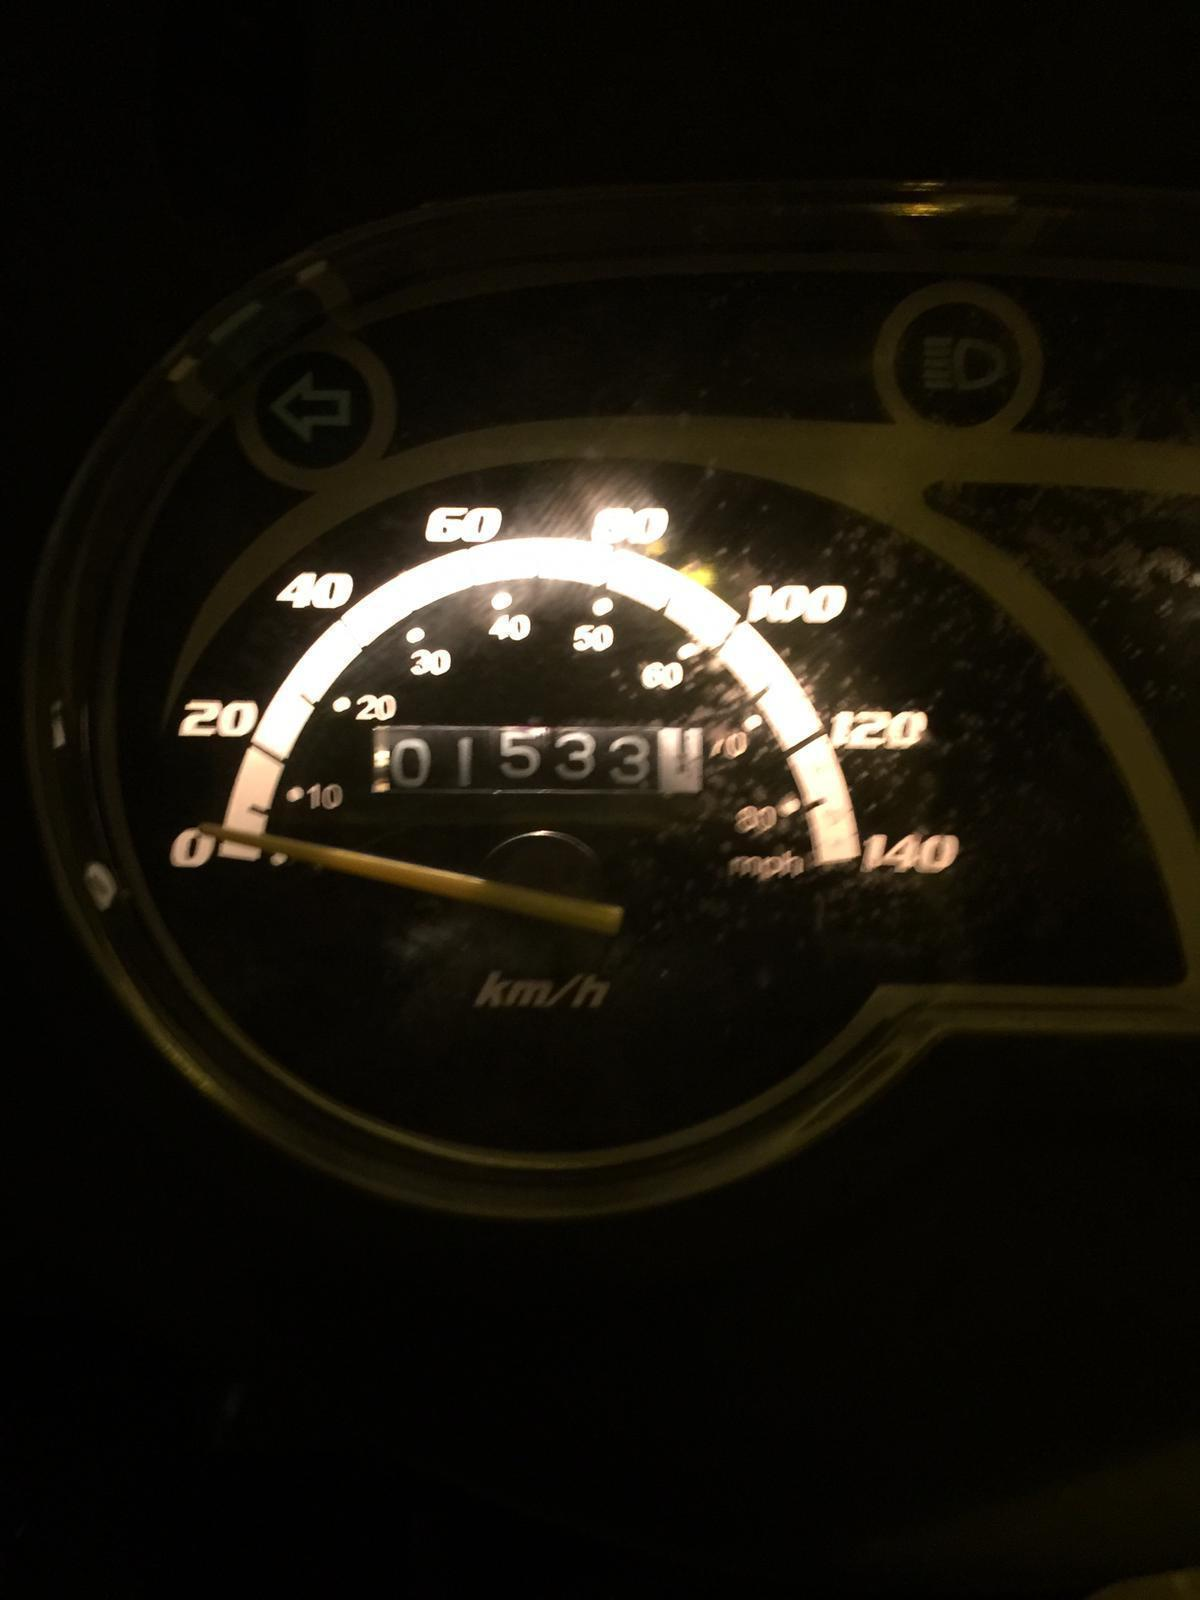0: (389, 734, 434, 789)
1: (451, 732, 476, 791), (669, 723, 695, 782)
3: (555, 727, 599, 785), (606, 729, 650, 786)
5: (495, 729, 545, 779)
odometer: (354, 717, 710, 803)
